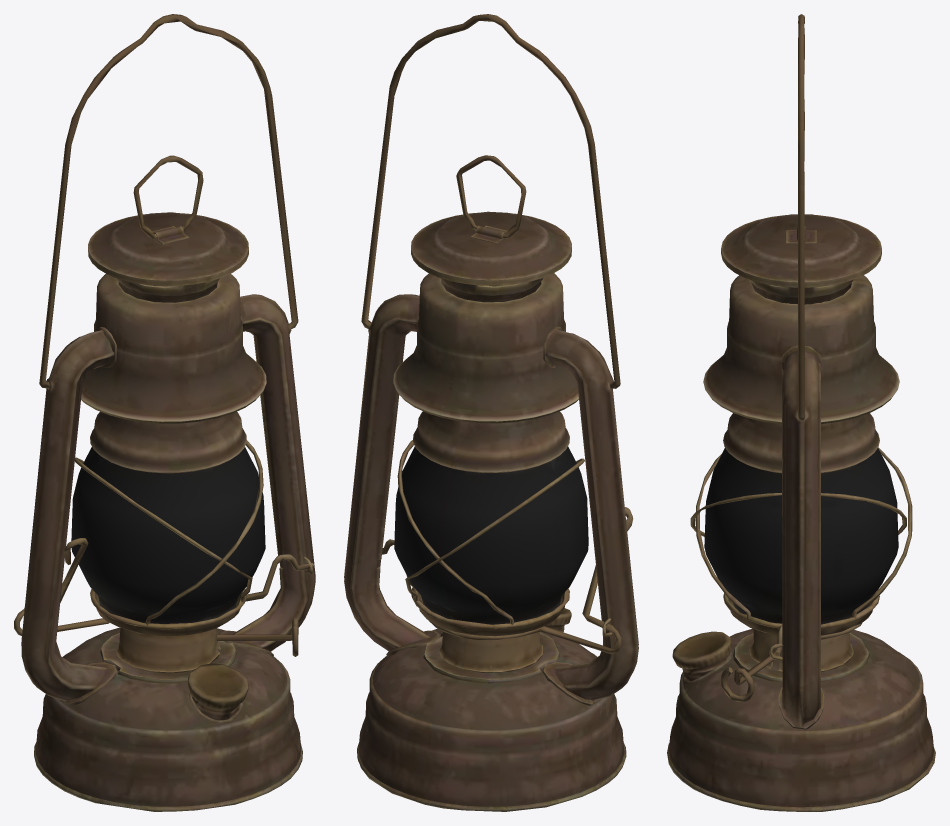
The model's file is Lantern_01.glb.
3 renders of one model, left to right at view 1: azimuth 30°, elevation 25°; view 2: azimuth 150°, elevation 25°; view 3: azimuth 270°, elevation 25°, orthographic.
Parts seen in each view (by area): view 1: Lantern_01, Lantern_01_glass; view 2: Lantern_01, Lantern_01_glass; view 3: Lantern_01, Lantern_01_glass.
Boxes of the visible parts, bbox=[...] form: Lantern_01: bbox=[14, 14, 315, 811]; Lantern_01_glass: bbox=[71, 447, 265, 623]; Lantern_01: bbox=[344, 14, 638, 811]; Lantern_01_glass: bbox=[394, 446, 588, 624]; Lantern_01: bbox=[667, 14, 935, 811]; Lantern_01_glass: bbox=[704, 448, 898, 624].
Size of the model in its own units: 0.1221 by 0.2938 by 0.097.
Materials: 2 (2 with a texture image).
